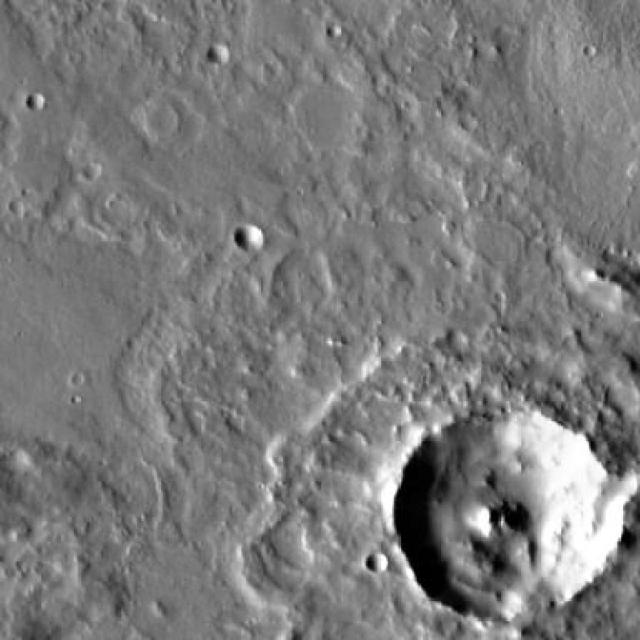crater: (403, 413, 634, 622), (234, 221, 266, 248), (364, 551, 388, 572), (210, 46, 232, 68), (29, 92, 49, 110)
